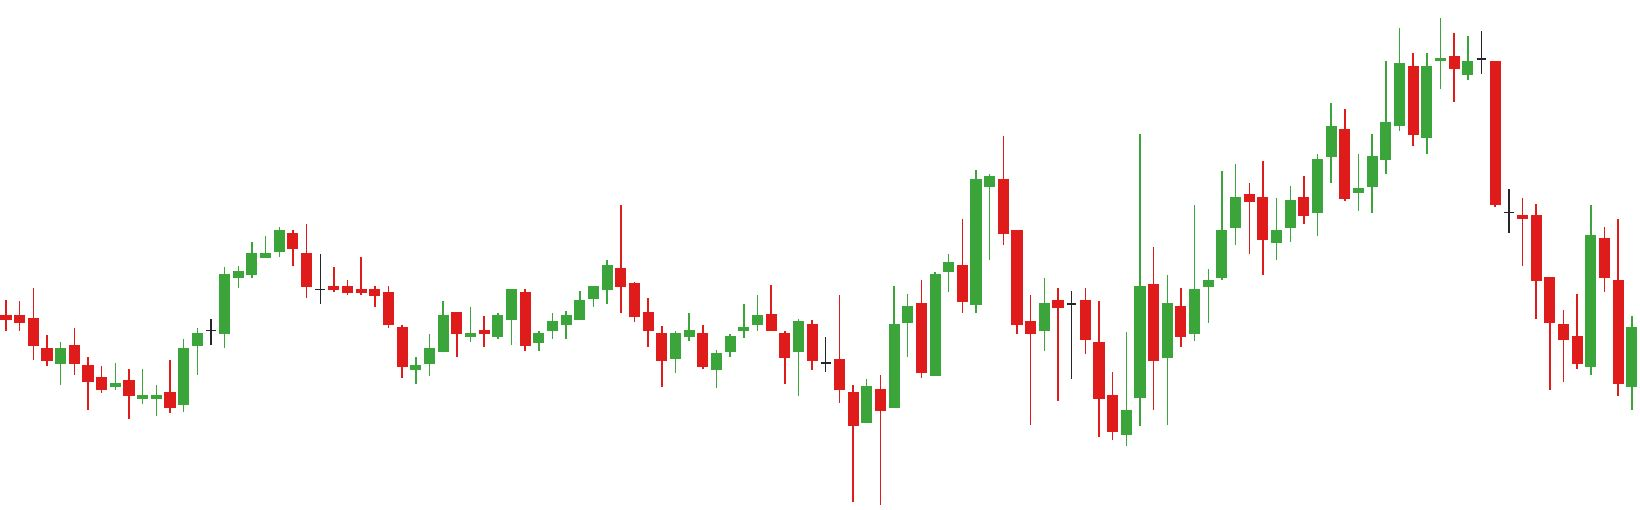buy: (1023, 315, 1135, 451)
